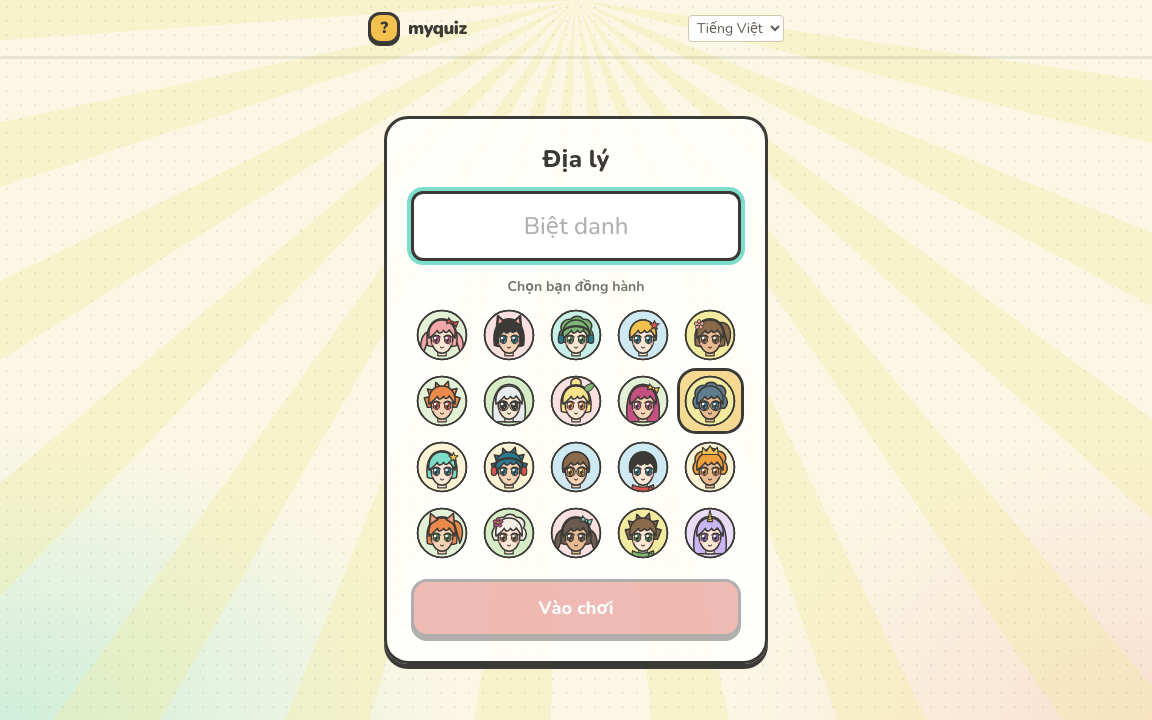
Test case: a player picks an avatar in the game's style and joins with it
Type "Lan" into the field labelled "Biệt danh" at (576, 226), box x1=411 y1=190 x2=741 y2=260
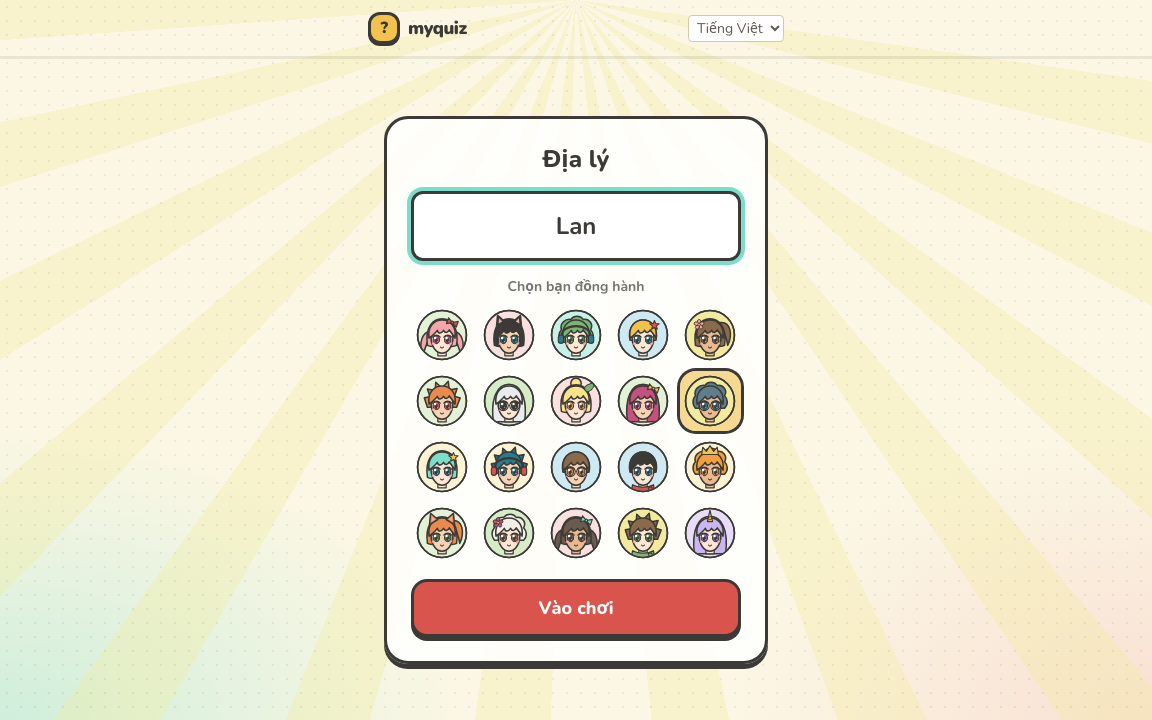
Click the radio button named "froggy" at (576, 334), box x1=550 y1=308 x2=602 y2=360
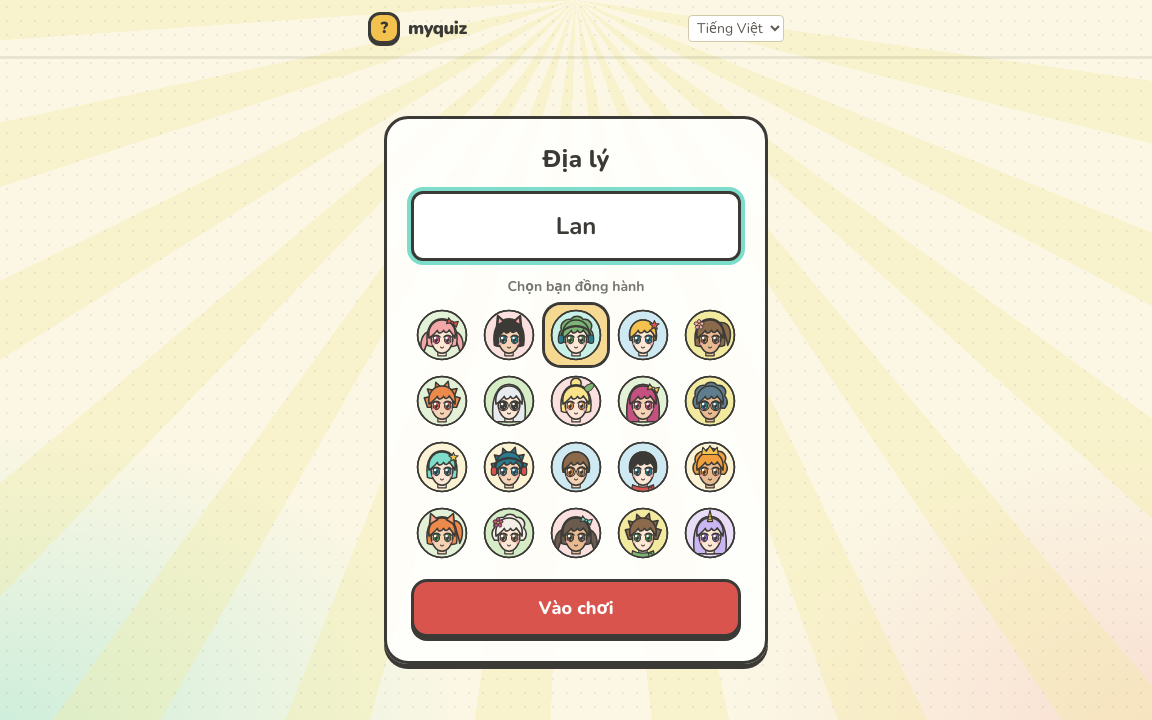
Click the button "Vào chơi" at (576, 608), box x1=411 y1=578 x2=741 y2=636
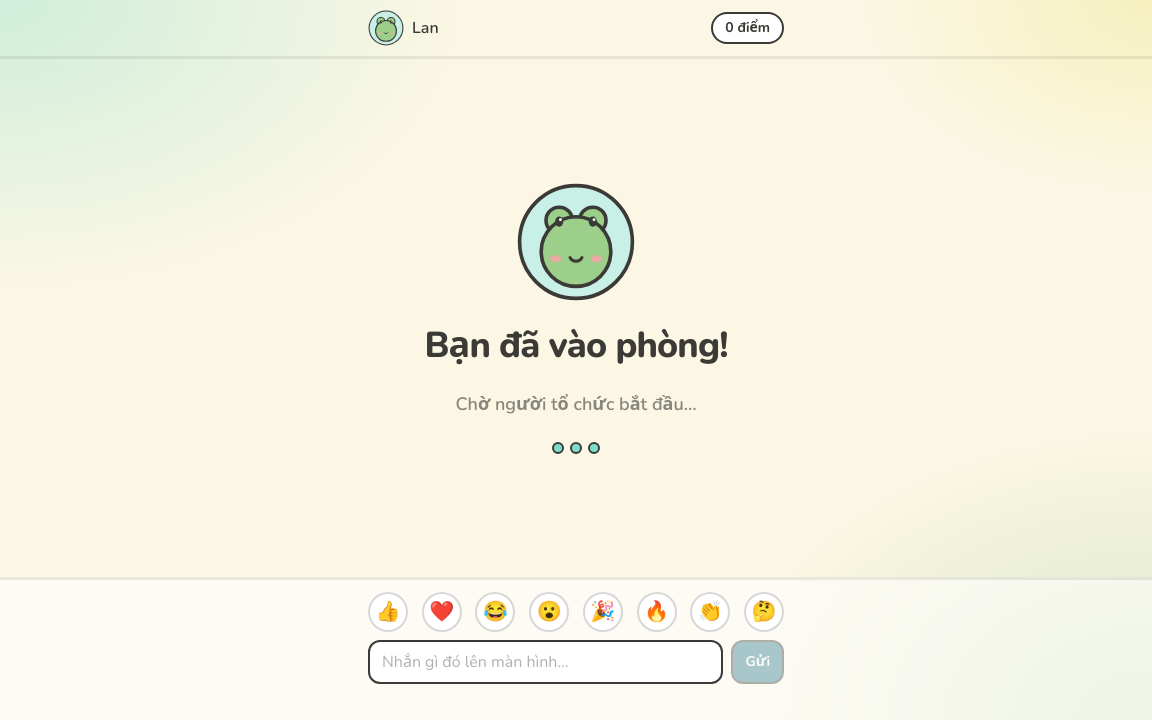
Expected: the text "Bạn đã vào phòng!" is shown, x1=424 y1=326 x2=728 y2=366
